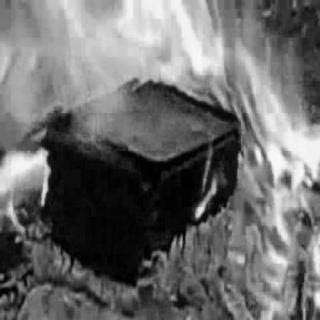Fire: (0, 0, 318, 314)
